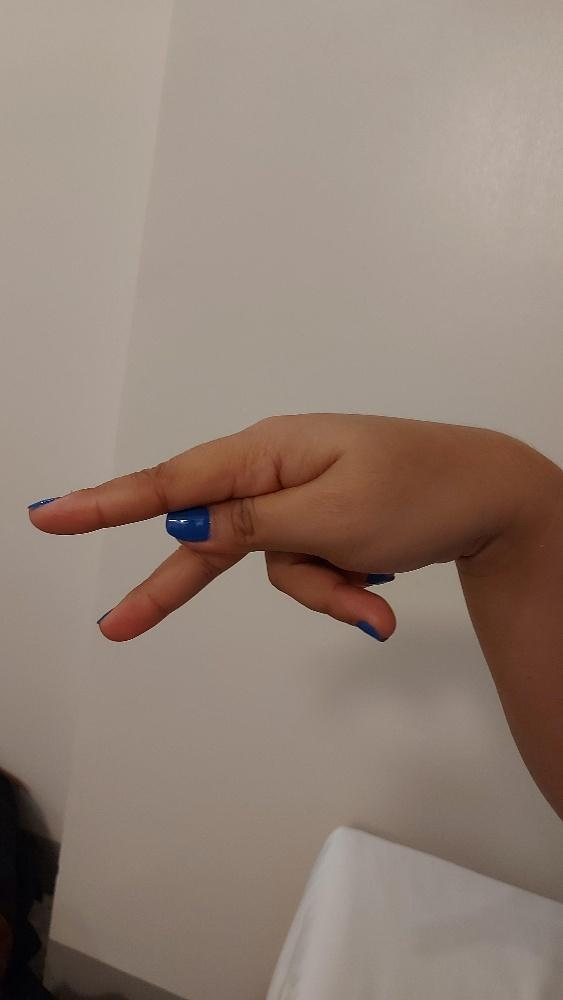p: (26, 409, 512, 643)
